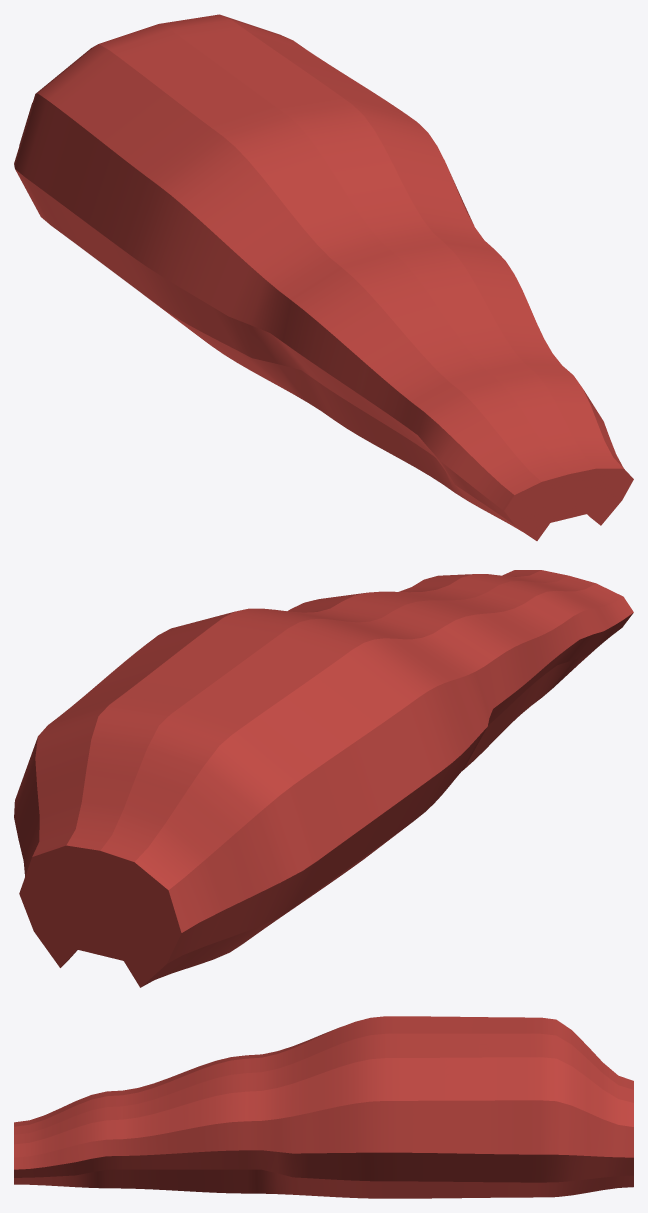
File: wedge.glb
3 renders of one model, top to bottom at view 1: azimuth 30°, elevation 25°; view 2: azimuth 150°, elevation 25°; view 3: azimuth 270°, elevation 25°, orthographic. The views are drawn at different scales.
Parts seen in each view (by area): view 1: lod0; view 2: lod0; view 3: lod0.
Part boxes in pixels (bbox=[...]): lod0: bbox=[14, 14, 633, 540]; lod0: bbox=[14, 570, 633, 987]; lod0: bbox=[14, 1016, 633, 1198].
Size of what is drawn, in the model's own units: 0.38 by 0.25 by 1.
